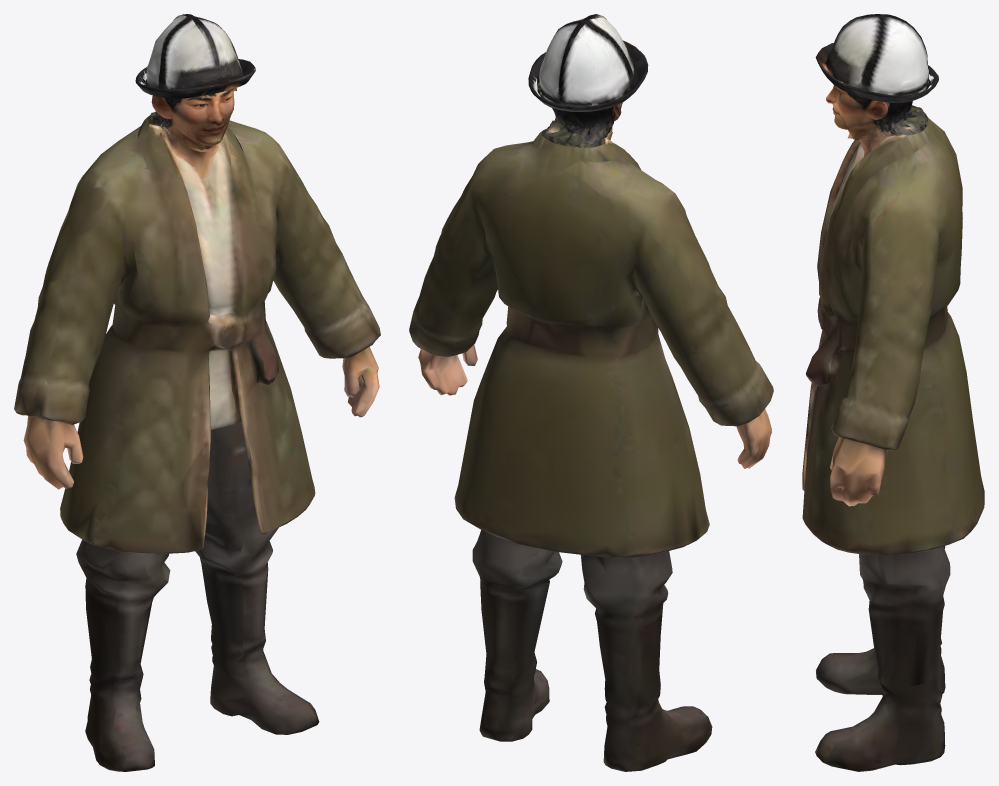
The model's file is herder-erlan.gen.phone.glb.
3 views of the same model, side by side, from view 1: azimuth 30°, elevation 25°; view 2: azimuth 150°, elevation 25°; view 3: azimuth 270°, elevation 25° (orthographic).
Parts seen in each view (by area): view 1: herder-erlan.raw; view 2: herder-erlan.raw; view 3: herder-erlan.raw.
Boxes of the visible parts, bbox=[...] form: herder-erlan.raw: bbox=[14, 14, 380, 771]; herder-erlan.raw: bbox=[409, 14, 773, 771]; herder-erlan.raw: bbox=[802, 14, 984, 771].
Bounding box in the file's own units: 0.9567 × 1.85 × 0.4318.
Materials: 1 (1 with a texture image).
